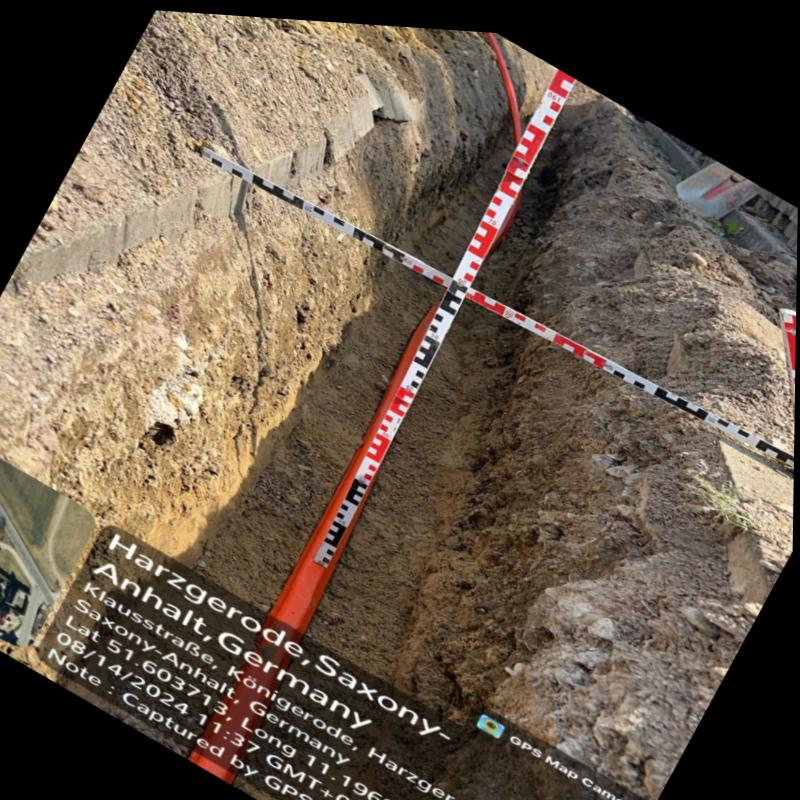Orang-Speednetrohrchen: (273, 552, 331, 625)
